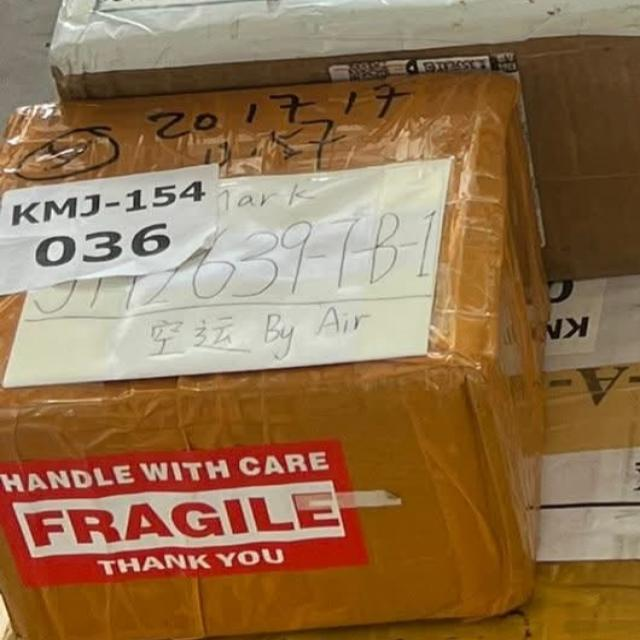carton_box: (0, 75, 568, 640)
export_mark_label: (16, 170, 447, 373)
fragile_label: (2, 474, 368, 559)
